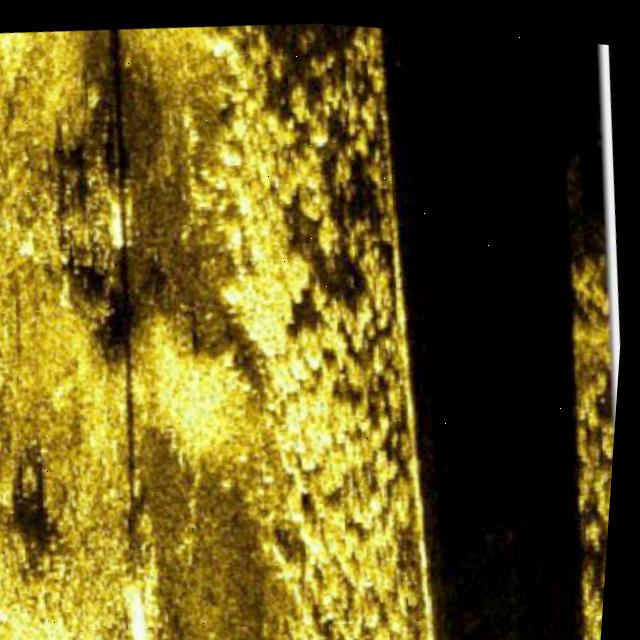bedrock group: (154, 11, 474, 640)
